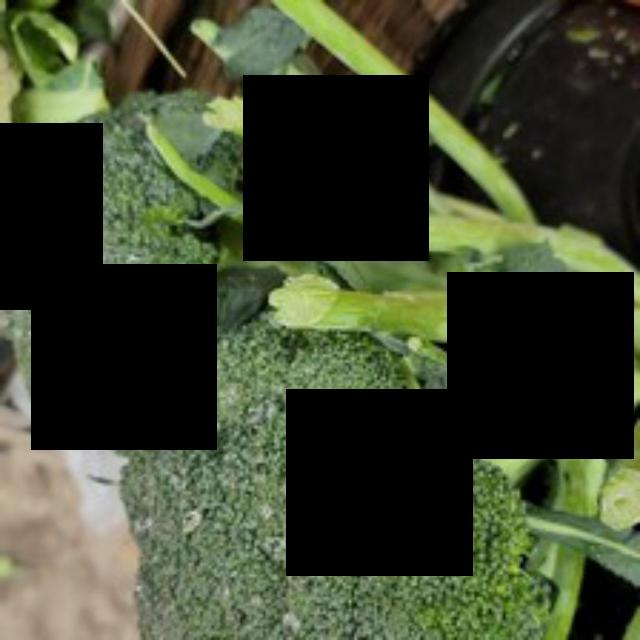broccoli: (117, 303, 574, 637)
